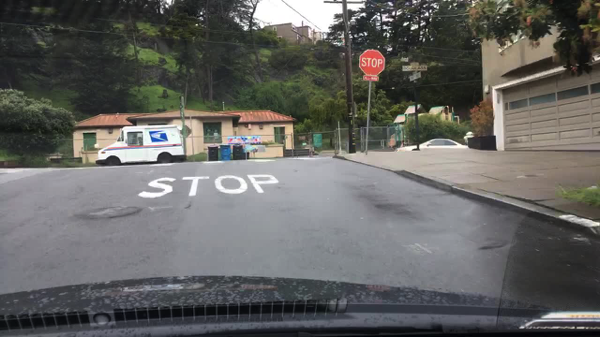car: (395, 137, 468, 152)
traffic sign: (358, 49, 385, 75), (313, 132, 323, 146), (363, 75, 379, 82)
truck: (96, 125, 185, 166)
